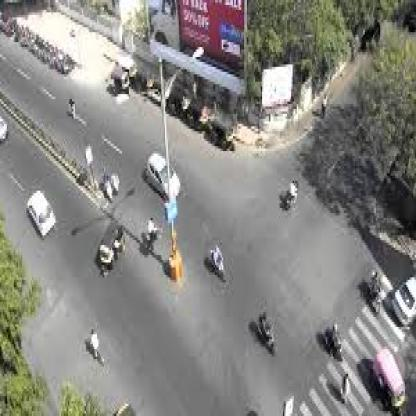car: (81, 210, 132, 286), (27, 182, 67, 262), (141, 144, 187, 210), (368, 337, 405, 416), (390, 259, 416, 331), (251, 304, 281, 362), (203, 240, 230, 284), (283, 169, 309, 212)
